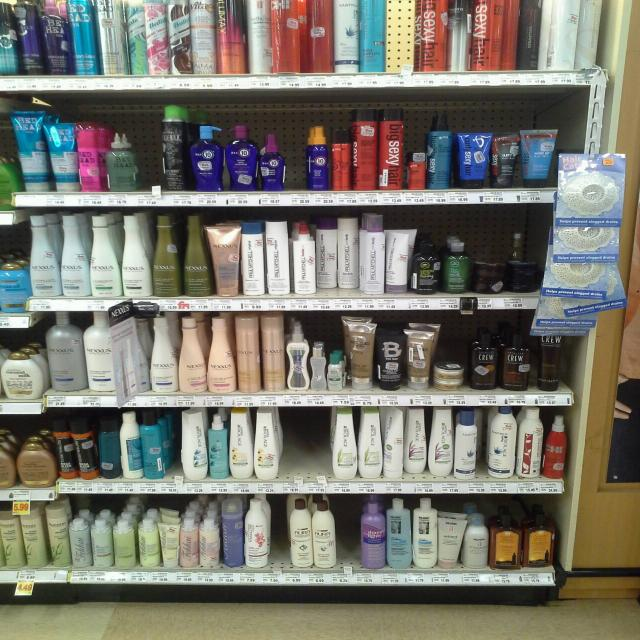unorganised: (316, 212, 361, 293), (406, 406, 453, 481), (425, 108, 455, 192), (349, 107, 376, 191), (454, 409, 483, 481), (385, 225, 413, 294), (218, 499, 246, 568), (380, 409, 405, 481), (119, 411, 145, 480), (140, 416, 167, 481), (544, 406, 567, 480), (97, 419, 121, 481)
